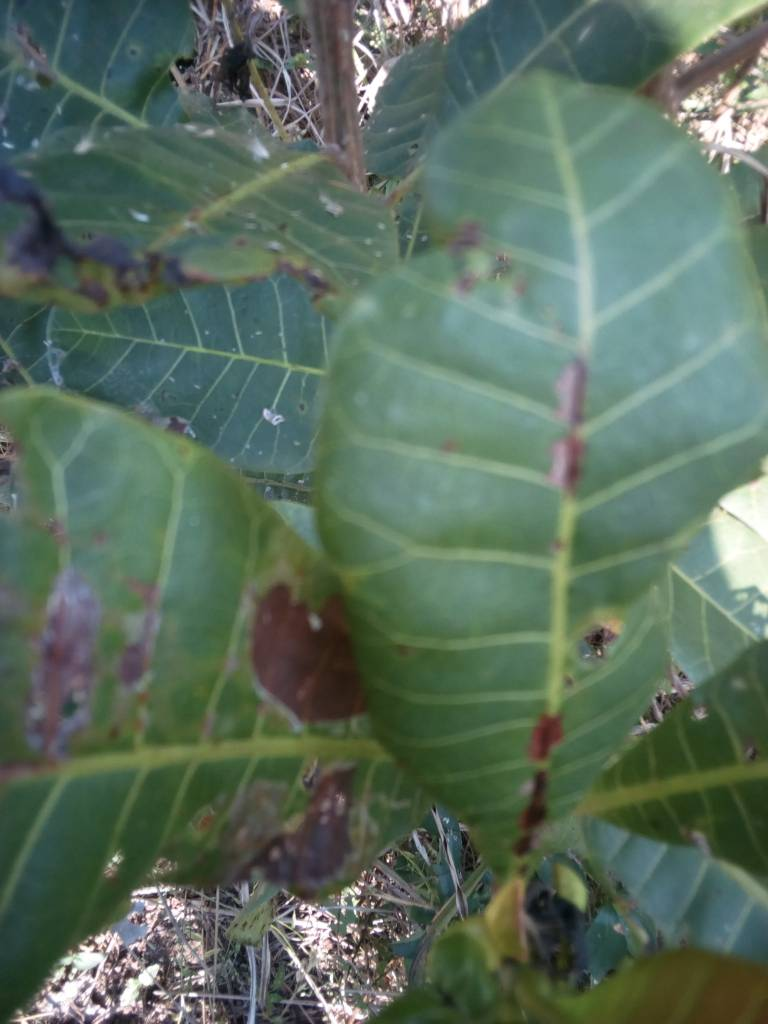Dysdercus wolkerii: (302, 39, 746, 858)
